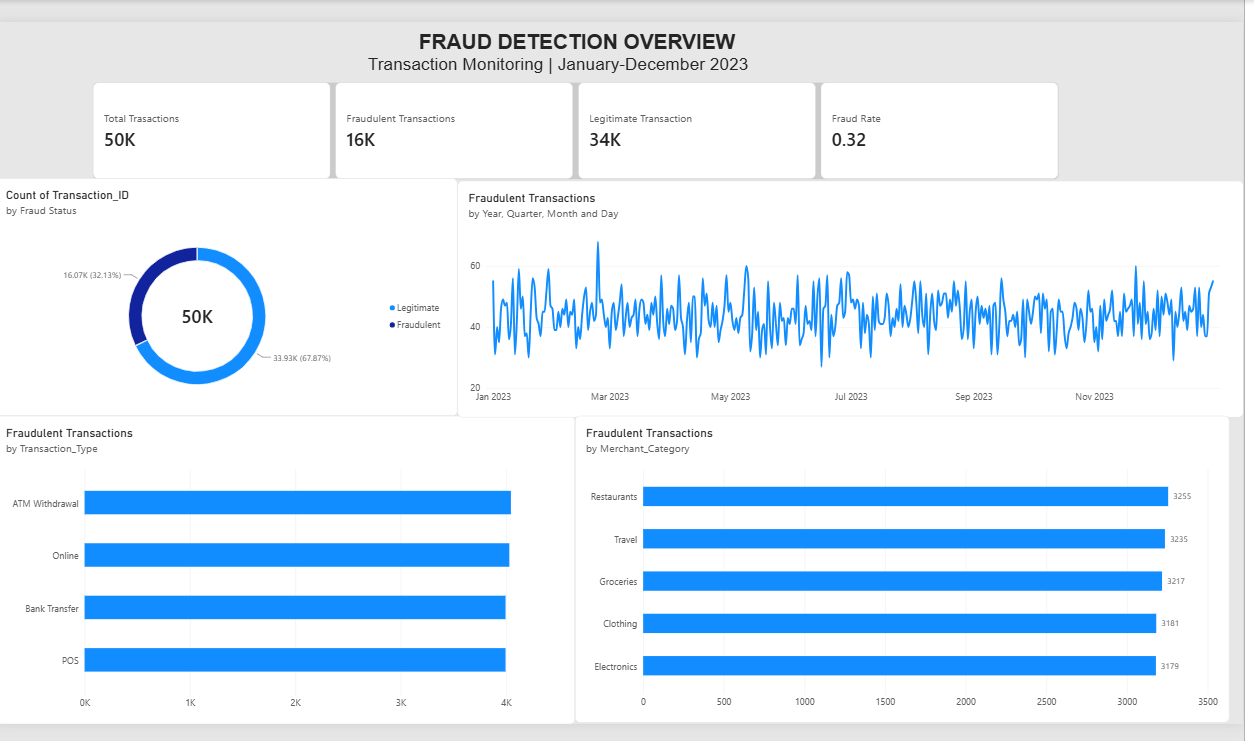

The dashboard page shown, as its layout file describes it:
{"tool":"powerbi","page":{"name":"Page 1","canvas":[1920,1080],"ordinal":0},"visuals":[{"type":"textbox","box":[128.2,13.4,1486.2,95.6],"z":0},{"type":"cardVisual","fields":{"Data":["synthetic_fraud_dataset1 (2).Total Trasactions","synthetic_fraud_dataset1 (2).Fraudulent Transactions","synthetic_fraud_dataset1 (2).Legitimate Transaction","synthetic_fraud_dataset1 (2).Fraud Rate"]},"box":[149.2,91.8,1486,150],"z":1000},{"type":"donutChart","fields":{"Category":["synthetic_fraud_dataset1 (2).Fraud Status"],"Y":["CountNonNull(synthetic_fraud_dataset1 (2).Transaction_ID)"]},"box":[0,240.7,711.2,365.6],"z":2000},{"type":"clusteredBarChart","fields":{"Category":["synthetic_fraud_dataset1 (2).Transaction_Type"],"Y":["synthetic_fraud_dataset1 (2).Fraudulent Transactions"]},"box":[0,606.2,892.2,474.1],"z":3000},{"type":"lineChart","fields":{"Category":["synthetic_fraud_dataset1 (2).Date.Variation.Date Hierarchy.Year","synthetic_fraud_dataset1 (2).Date.Variation.Date Hierarchy.Quarter","synthetic_fraud_dataset1 (2).Date.Variation.Date Hierarchy.Month","synthetic_fraud_dataset1 (2).Date.Variation.Date Hierarchy.Day"],"Y":["synthetic_fraud_dataset1 (2).Fraudulent Transactions"]},"box":[711.2,244.3,1209,364],"z":4000},{"type":"clusteredBarChart","fields":{"Category":["synthetic_fraud_dataset1 (2).Merchant_Category"],"Y":["synthetic_fraud_dataset1 (2).Fraudulent Transactions"]},"box":[892.2,606.2,1006.2,472.3],"z":5000}]}

Visuals, with their boxes on the page's 1920x1080 design canvas (x1, y1, x2, y2). These are canvas units, not pixel positions in the 1254x741 screenshot, which may show the page scaled, cropped or inside an application window:
textbox: region(128, 13, 1614, 109)
cardVisual - synthetic_fraud_dataset1 (2).Total Trasactions x synthetic_fraud_dataset1 (2).Fraudulent Transactions: region(149, 92, 1635, 242)
donutChart - synthetic_fraud_dataset1 (2).Fraud Status x CountNonNull(synthetic_fraud_dataset1 (2).Transaction_ID): region(0, 241, 711, 606)
clusteredBarChart - synthetic_fraud_dataset1 (2).Transaction_Type x synthetic_fraud_dataset1 (2).Fraudulent Transactions: region(0, 606, 892, 1080)
lineChart - synthetic_fraud_dataset1 (2).Date.Variation.Date Hierarchy.Year x synthetic_fraud_dataset1 (2).Date.Variation.Date Hierarchy.Quarter: region(711, 244, 1920, 608)
clusteredBarChart - synthetic_fraud_dataset1 (2).Merchant_Category x synthetic_fraud_dataset1 (2).Fraudulent Transactions: region(892, 606, 1898, 1078)
